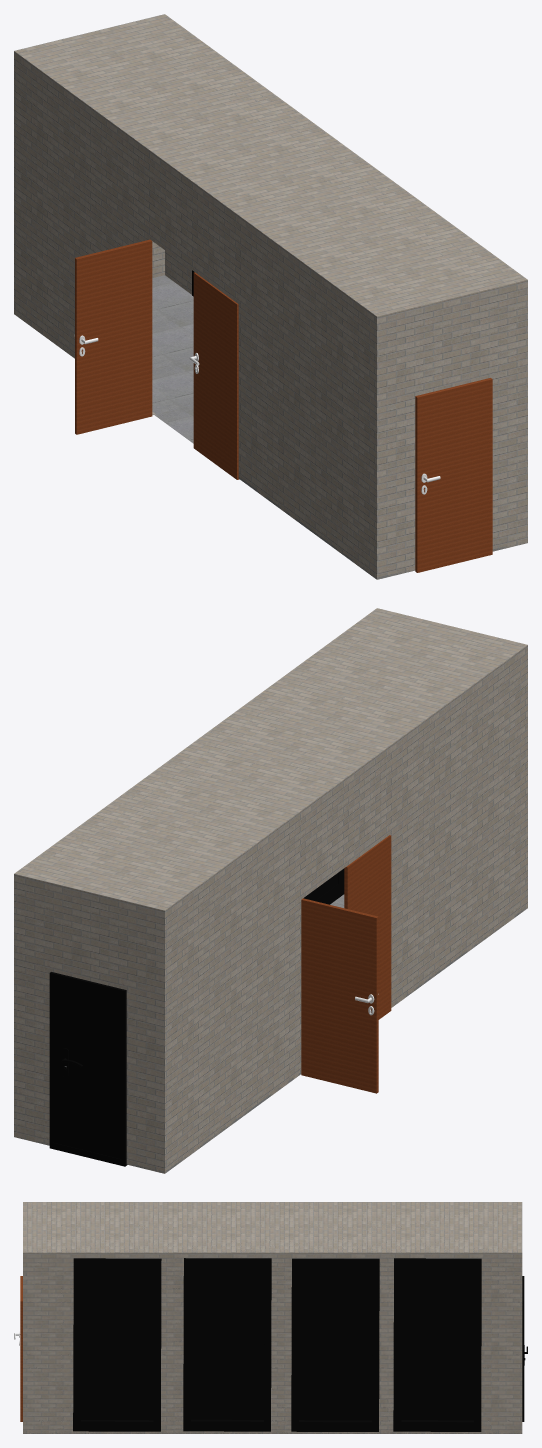
File: Hallway.fbx
3 views of the same model, one above another, from view 1: azimuth 30°, elevation 25°; view 2: azimuth 150°, elevation 25°; view 3: azimuth 270°, elevation 25° (orthographic). The views are drawn at different scales.
Parts seen in each view (by area): view 1: Object_29, Object_31, Object_44, Object_32, Object_30; view 2: Object_29, Object_31, Object_43, Object_32, Object_42, Object_30, GROUND PLANE; view 3: GROUND PLANE, Object_29, Object_44, Object_30, Object_42.
Boxes of the visible parts, left/top/right/bottom form: Object_29: left=14, top=14, right=527, bottom=579; Object_31: left=75, top=239, right=152, bottom=434; Object_44: left=415, top=378, right=492, bottom=572; Object_32: left=193, top=272, right=239, bottom=479; Object_30: left=38, top=275, right=527, bottom=579; Object_29: left=14, top=608, right=527, bottom=1173; Object_31: left=301, top=898, right=378, bottom=1093; Object_43: left=53, top=974, right=126, bottom=1166; Object_32: left=344, top=835, right=391, bottom=1019; Object_42: left=49, top=972, right=127, bottom=1166; Object_30: left=14, top=894, right=527, bottom=1173; GROUND PLANE: left=303, top=868, right=344, bottom=904; GROUND PLANE: left=73, top=1258, right=481, bottom=1431; Object_29: left=23, top=1202, right=522, bottom=1433; Object_44: left=20, top=1276, right=22, bottom=1421; Object_30: left=24, top=1432, right=521, bottom=1433; Object_42: left=522, top=1276, right=524, bottom=1421.
Size of the model in its own units: 110 by 309 by 120.
7 materials, 3 textured.
